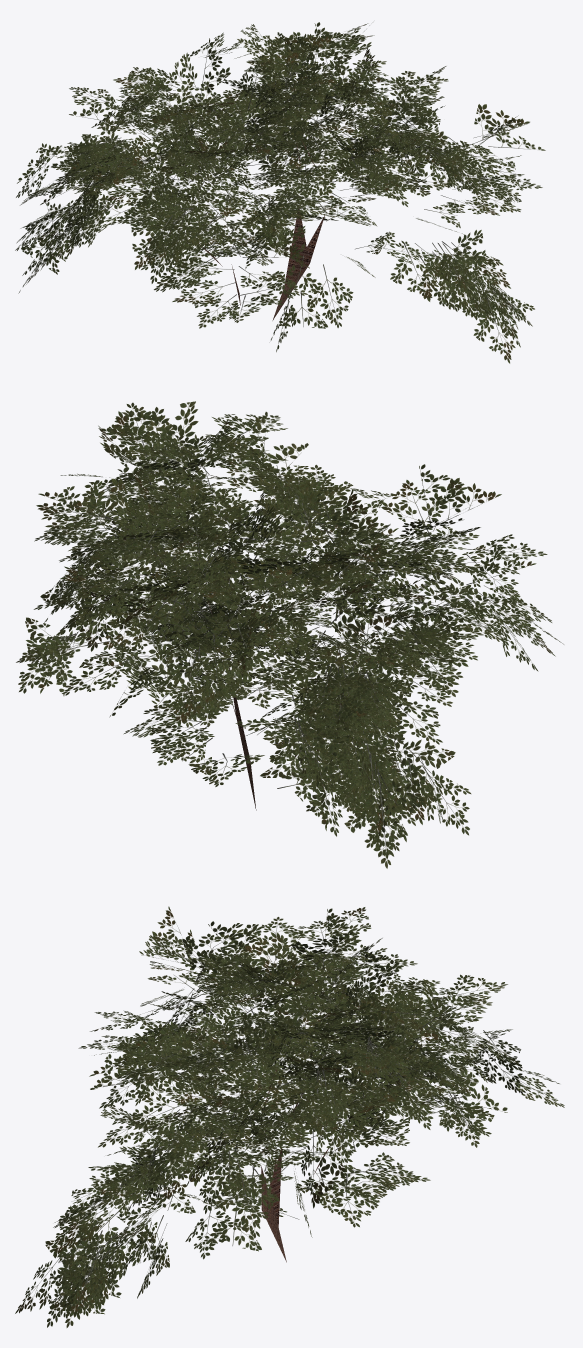
File: tree-jungle.lod0.glb
3 views of the same model, one above another, from view 1: azimuth 30°, elevation 25°; view 2: azimuth 150°, elevation 25°; view 3: azimuth 270°, elevation 25° (orthographic). The views are drawn at different scales.
Visible parts, largest first — view 1: polySurface1_DB2X2_L02_0, polySurface1_Trank_bark1_0; view 2: polySurface1_DB2X2_L02_0; view 3: polySurface1_DB2X2_L02_0, polySurface1_Trank_bark1_0.
Boxes of the visible parts, box(x1,y1,x2,y2) form: polySurface1_DB2X2_L02_0: box(15, 22, 545, 363); polySurface1_Trank_bark1_0: box(198, 139, 324, 320); polySurface1_DB2X2_L02_0: box(16, 401, 563, 868); polySurface1_DB2X2_L02_0: box(15, 906, 564, 1327); polySurface1_Trank_bark1_0: box(261, 1069, 337, 1262).
Size of the model in its own units: 22.82 by 14.6 by 22.26.
Materials: 2 (2 with a texture image).
